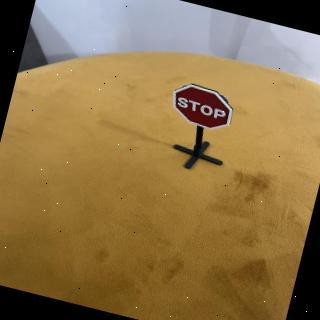sign_stop: (167, 80, 240, 137)
